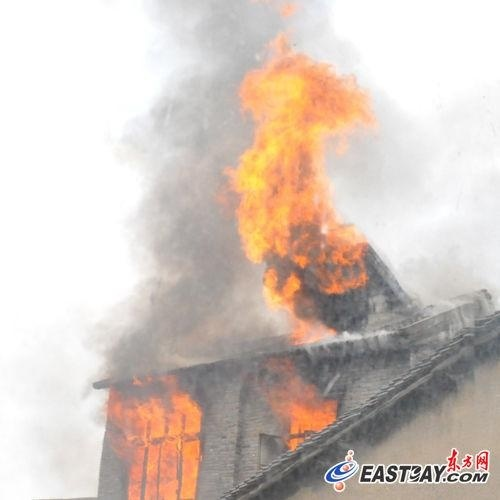fire: (220, 20, 375, 348), (107, 374, 203, 499)
